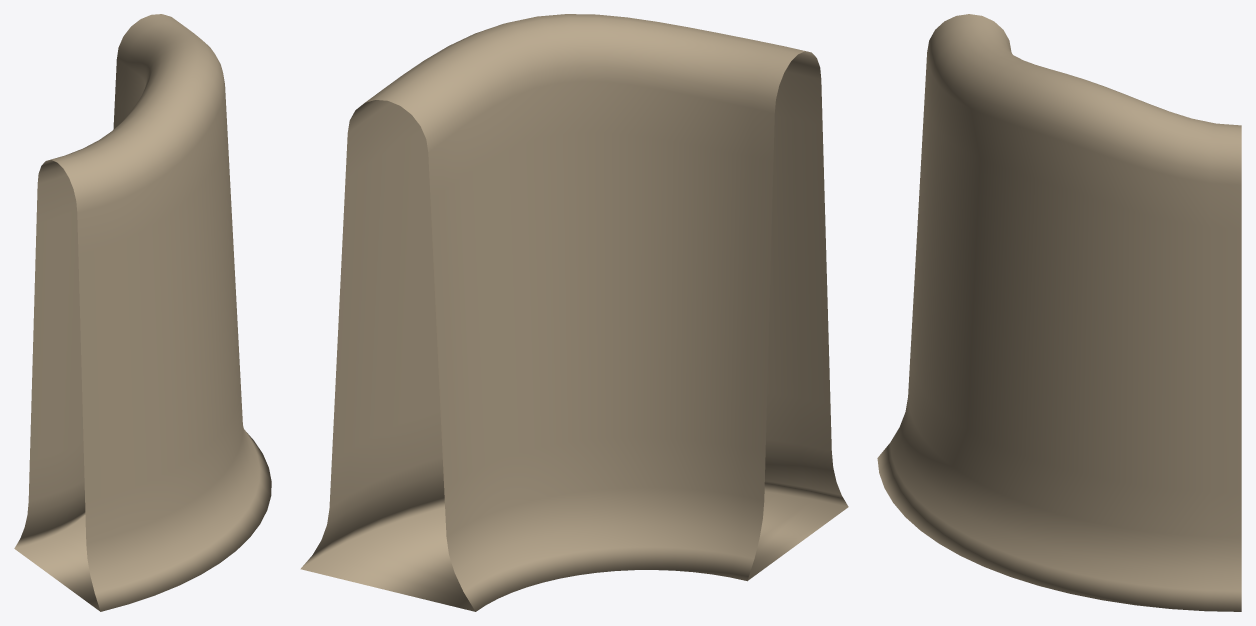
Rendered from KFB_Wall_curved_quarter.r4.glb.
The picture shows the model from 3 angles, left to right: view 1: azimuth 30°, elevation 25°; view 2: azimuth 150°, elevation 25°; view 3: azimuth 270°, elevation 25°; orthographic projection. The views are drawn at different scales.
Parts seen in each view (by area): view 1: KFB_Wall_curved_quarter; view 2: KFB_Wall_curved_quarter; view 3: KFB_Wall_curved_quarter.
Boxes of the visible parts, x1,y1,x2,y2 form: KFB_Wall_curved_quarter: [14, 14, 271, 611]; KFB_Wall_curved_quarter: [300, 14, 848, 611]; KFB_Wall_curved_quarter: [877, 14, 1241, 611].
Size of the model in its own units: 2.68 by 3.79 by 2.68.
